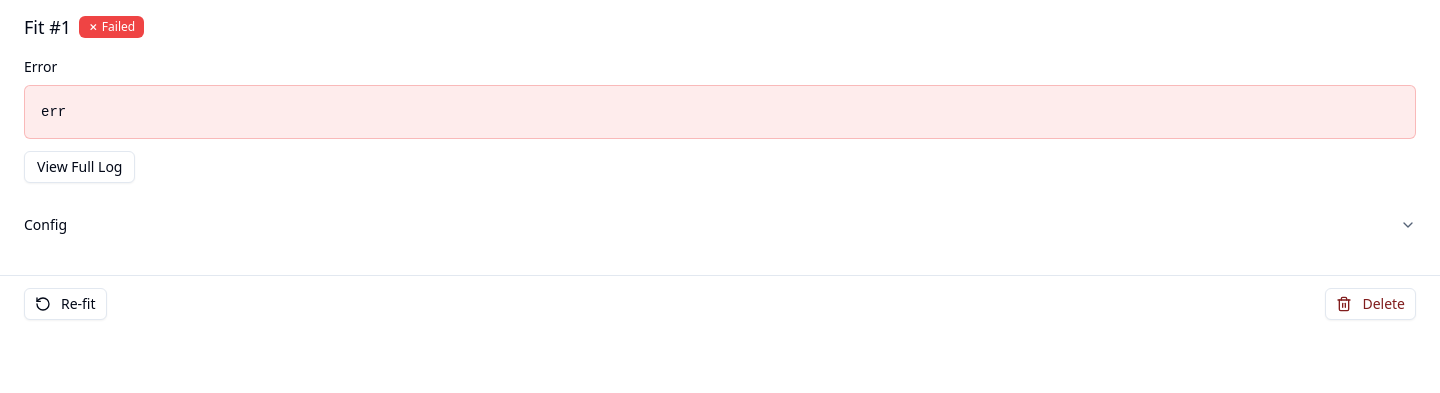
it: JobDetailPanel - ConfigTreeView rendering › expands Config accordion and shows primitive values
Click the button "Config" at (46, 224), box [24,199,1416,251]
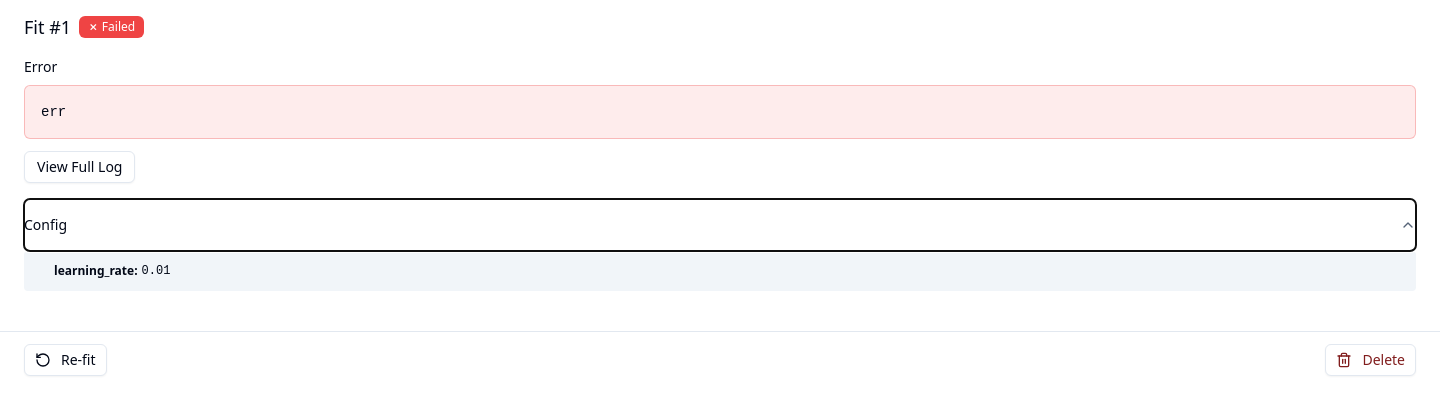
Result: the text "learning_rate:" is shown at [54,263,138,279]
Result: the text "0.01" is shown at [142,263,170,279]
